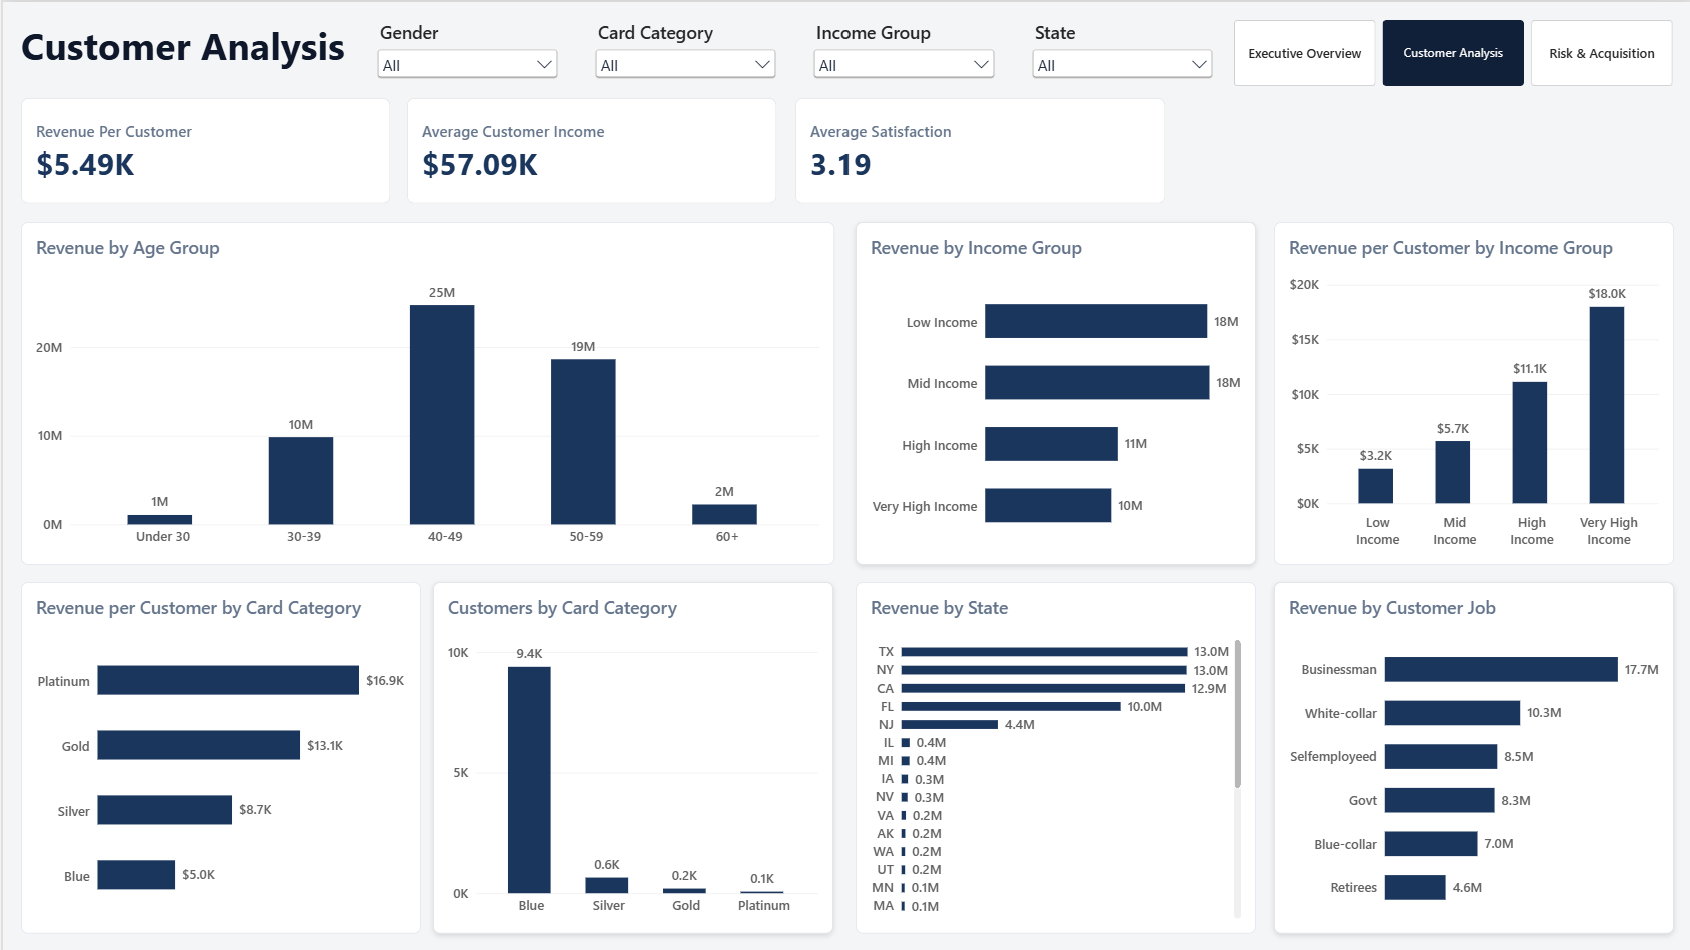

The dashboard page shown, as its layout file describes it:
{"tool":"powerbi","page":{"name":"Customer Analysis","canvas":[1920,1080],"ordinal":1},"visuals":[{"type":"cardVisual","fields":{"Data":["cc_detail.Revenue Per Customer"]},"box":[20,110,420,120],"z":0},{"type":"cardVisual","fields":{"Data":["Measure(s).Average Customer Income"]},"box":[460,110,420,120],"z":1},{"type":"cardVisual","fields":{"Data":["Measure(s).Average Satisfaction"]},"box":[900,110,420,120],"z":2},{"type":"clusteredBarChart","title":"Revenue by Income Group","fields":{"Category":["cust_detail.Income Group"],"Y":["Measure(s).Total Revenue"]},"box":[970,250.2,455,390],"z":3},{"type":"clusteredColumnChart","title":"Revenue per Customer by Income Group","fields":{"Category":["cust_detail.Income Group"],"Y":["Measure(s).Revenue Per Customer"]},"box":[1445,250.2,455,390],"z":4},{"type":"clusteredBarChart","title":"Revenue per Customer by Card Category","fields":{"Category":["cc_detail.Card_Category"],"Y":["Measure(s).Revenue Per Customer"]},"box":[20,660,455,400],"z":5},{"type":"clusteredColumnChart","title":"Customers by Card Category","fields":{"Category":["cc_detail.Card_Category"],"Y":["Measure(s).Total Customers"]},"box":[490,660,455,400],"z":6},{"type":"clusteredColumnChart","title":"Revenue by Age Group","fields":{"Category":["cust_detail.Age Group"],"Y":["Measure(s).Total Revenue"]},"box":[20,250,925,390],"z":7},{"type":"clusteredBarChart","title":"Revenue by Customer Job","fields":{"Category":["cust_detail.Customer_Job"],"Y":["Measure(s).Total Revenue"]},"box":[1445,660,455,400],"z":8},{"type":"clusteredBarChart","title":"Revenue by State","fields":{"Category":["cust_detail.State_Cd"],"Y":["Measure(s).Total Revenue"]},"box":[970,660,455,400],"z":9},{"type":"slicer","fields":{"Values":["cust_detail.Gender"]},"box":[420,20,215,75],"z":10},{"type":"slicer","fields":{"Values":["cc_detail.Card_Category"]},"box":[668.3,20,215,75],"z":11},{"type":"slicer","fields":{"Values":["cust_detail.Income Group"]},"box":[916.7,20,215,75],"z":12},{"type":"slicer","fields":{"Values":["cust_detail.State_Cd"]},"box":[1165,20,215,75],"z":13},{"type":"textbox","box":[20.5,20.5,416.3,66],"z":14},{"type":"pageNavigator","box":[1400,20,500,75],"z":15}]}

Visuals, with their boxes in screenshot pixels (x1, y1, x2, y2), scaled from the page's 1920x1080 canvas onto the 1690x950 screenshot:
cardVisual - cc_detail.Revenue Per Customer: rect(18, 97, 387, 202)
cardVisual - Measure(s).Average Customer Income: rect(405, 97, 775, 202)
cardVisual - Measure(s).Average Satisfaction: rect(792, 97, 1162, 202)
"Revenue by Income Group" clusteredBarChart: rect(854, 220, 1254, 563)
"Revenue per Customer by Income Group" clusteredColumnChart: rect(1272, 220, 1672, 563)
"Revenue per Customer by Card Category" clusteredBarChart: rect(18, 581, 418, 932)
"Customers by Card Category" clusteredColumnChart: rect(431, 581, 832, 932)
"Revenue by Age Group" clusteredColumnChart: rect(18, 220, 832, 563)
"Revenue by Customer Job" clusteredBarChart: rect(1272, 581, 1672, 932)
"Revenue by State" clusteredBarChart: rect(854, 581, 1254, 932)
slicer - cust_detail.Gender: rect(370, 18, 559, 84)
slicer - cc_detail.Card_Category: rect(588, 18, 777, 84)
slicer - cust_detail.Income Group: rect(807, 18, 996, 84)
slicer - cust_detail.State_Cd: rect(1025, 18, 1215, 84)
textbox: rect(18, 18, 384, 76)
pageNavigator: rect(1232, 18, 1672, 84)
